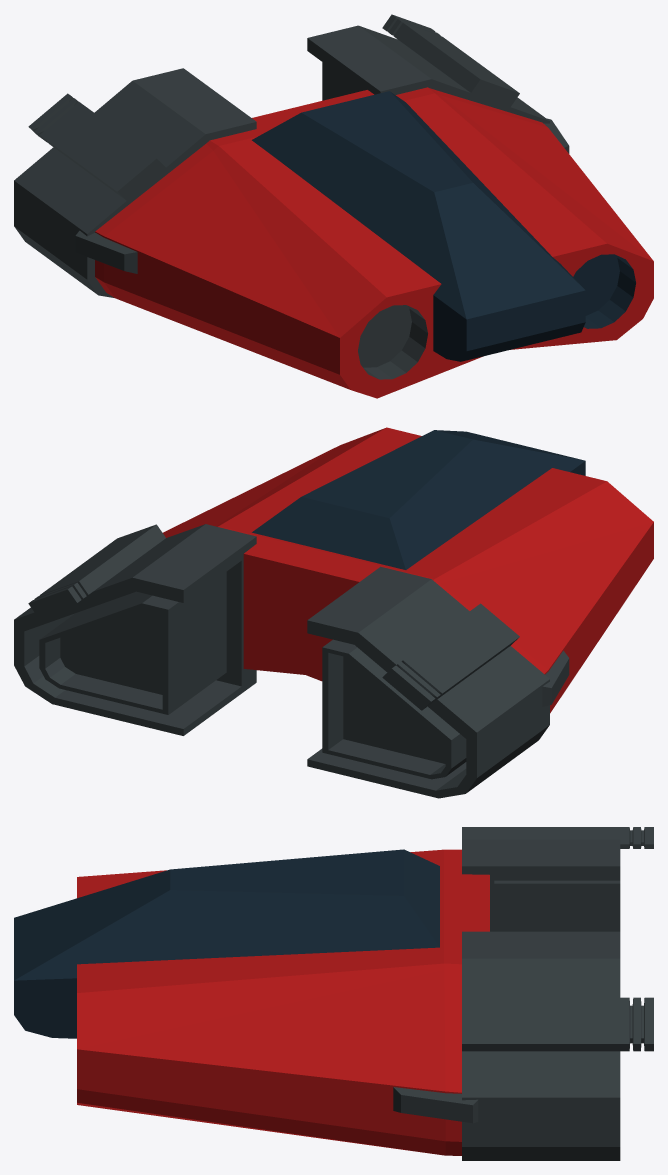
File: SpaceShip1.fbx
The picture shows the model from 3 angles, top to bottom: view 1: azimuth 30°, elevation 25°; view 2: azimuth 150°, elevation 25°; view 3: azimuth 270°, elevation 25°; orthographic projection. The views are drawn at different scales.
Parts seen in each view (by area): view 1: SpaceShip_2.001; view 2: SpaceShip_2.001; view 3: SpaceShip_2.001.
Boxes of the visible parts, x1,y1,x2,y2 form: SpaceShip_2.001: (14,14,653,398); SpaceShip_2.001: (14,427,653,798); SpaceShip_2.001: (14,827,653,1160).
Size of the model in its own units: 4.47 by 1.53 by 4.82.
